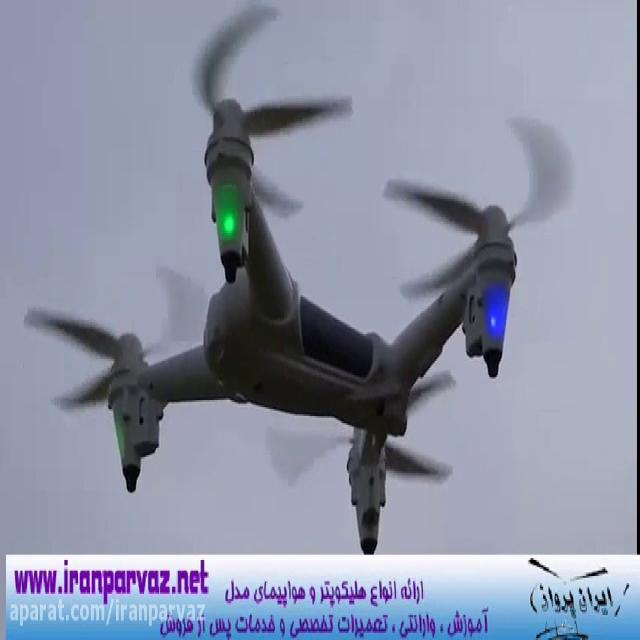drone: (21, 0, 585, 551)
